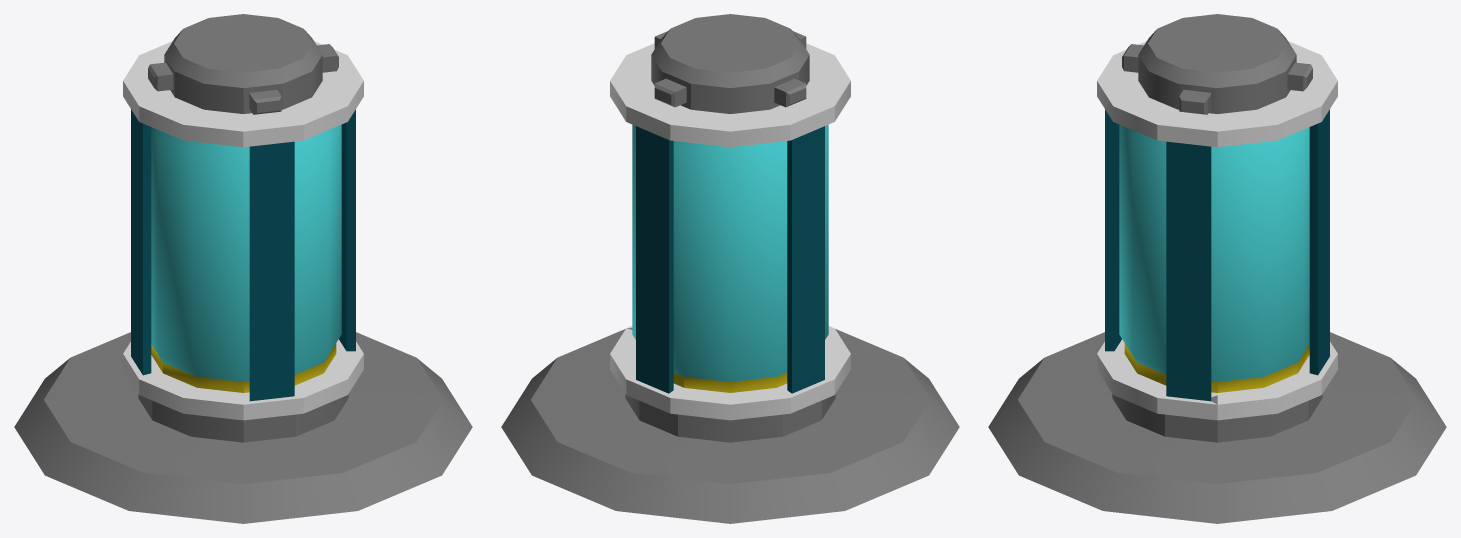
File: Asset2.fbx
3 renders of one model, left to right at view 1: azimuth 30°, elevation 25°; view 2: azimuth 150°, elevation 25°; view 3: azimuth 270°, elevation 25°, orthographic.
Visible parts, largest first — view 1: Circle.030; view 2: Circle.030; view 3: Circle.030.
Boxes of the visible parts, x1=… form: Circle.030: x1=14, y1=14, x2=472, y2=523; Circle.030: x1=501, y1=14, x2=959, y2=523; Circle.030: x1=988, y1=14, x2=1446, y2=523.
Bounding box in the file's own units: 1243 × 1147 × 1243.
